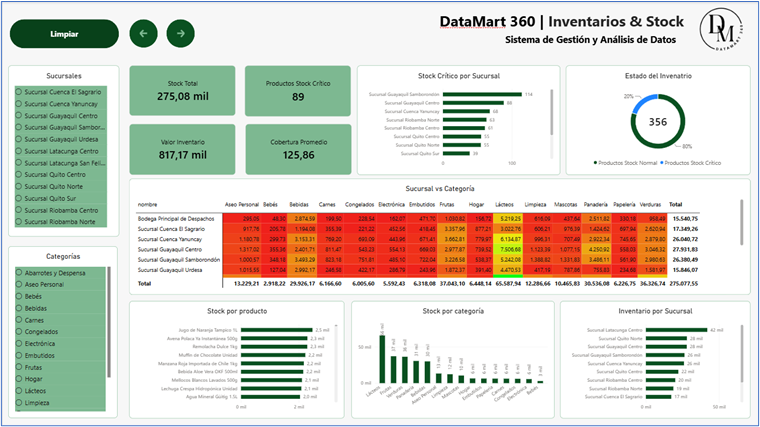

This screenshot's page, from the dashboard's own definition file:
{"tool":"powerbi","page":{"name":"Inventarios & Stock","canvas":[1920,1080],"ordinal":4},"visuals":[{"type":"textbox","box":[1100.3,23.5,634,56],"z":0,"group":"g1"},{"type":"cardVisual","fields":{"Data":["_Medidas.Productos Stock Crítico"]},"box":[615.3,162.9,270,130.3],"z":0},{"type":"cardVisual","fields":{"Data":["_Medidas.Stock Total"]},"box":[322.1,162.9,270,128.5],"z":1000},{"type":"listSlicer","title":"Sucursales","fields":{"Values":["sucursales.nombre"]},"box":[14.8,163,281.5,435.2],"z":2000},{"type":"cardVisual","fields":{"Data":["_Medidas.Cobertura Promedio"]},"box":[617.1,311.3,270,130.3],"z":2000},{"type":"cardVisual","fields":{"Data":["_Medidas.Valor Inventario"]},"box":[322.1,311.3,270,130.3],"z":3000},{"type":"listSlicer","title":"Categorías","fields":{"Values":["categorias.nombre"]},"box":[14.8,622.2,277.8,437],"z":4000},{"type":"clusteredBarChart","title":"Inventario por Sucursal","fields":{"Category":["sucursales.nombre"],"Y":["_Medidas.Stock Total"]},"box":[1417,761.9,483.2,298.6],"z":4000},{"type":"actionButton","box":[416.2,45.2,72.4,72.4],"z":5000,"group":"g3"},{"type":"clusteredColumnChart","title":"Stock por categoría","fields":{"Category":["categorias.nombre"],"Y":["_Medidas.Stock Total"]},"box":[886.7,761.9,515.8,298.6],"z":5000},{"type":"actionButton","box":[322.1,45.2,72.4,72.4],"z":6000,"group":"g3"},{"type":"barChart","title":"Stock Crítico por Sucursal","fields":{"Category":["sucursales.nombre"],"Y":["_Medidas.Stock Crítico"]},"box":[901.2,162.9,515.8,278.7],"z":6000},{"type":"pivotTable","title":"Sucursal vs Categoría","fields":{"Columns":["categorias.nombre"],"Rows":["sucursales.nombre"],"Values":["_Medidas.Stock Total"]},"box":[322.1,450.6,1578,295],"z":7000},{"type":"clusteredBarChart","title":"Stock por producto","fields":{"Category":["productos.nombre"],"Y":["_Medidas.Stock Total"]},"box":[322.1,761.9,546.5,298.6],"z":8000},{"type":"donutChart","title":"Estado del Invenatrio","fields":{"Y":["_Medidas.Productos Stock Normal","_Medidas.Productos Stock Crítico"]},"box":[1431.4,162.9,468.7,278.7],"z":9000},{"type":"actionButton","title":"Limpiar","box":[18.5,44.4,277.8,74.1],"z":10000},{"type":"group","id":"g1","title":"Grupo 2","box":[1100.3,23.5,634,98],"z":11000,"group":"g2"},{"type":"group","id":"g2","title":"Grupo 4","box":[1100.3,23.5,634,98],"z":11000},{"type":"group","id":"g3","title":"Grupo 3","box":[322.1,45.2,166.5,72.4],"z":13000},{"type":"image","box":[1757.4,3.7,138.9,137],"z":13001},{"type":"textbox","box":[1278.3,79.5,446,42],"z":16000,"group":"g1"}]}

Visuals, with their boxes in screenshot pixels (x1, y1, x2, y2), scaled from the page's 1920x1080 canvas onto the 760x427 screenshot:
textbox: l=436, t=9, r=686, b=31
cardVisual - _Medidas.Productos Stock Crítico: l=244, t=64, r=350, b=116
cardVisual - _Medidas.Stock Total: l=127, t=64, r=234, b=115
"Sucursales" listSlicer: l=6, t=64, r=117, b=237
cardVisual - _Medidas.Cobertura Promedio: l=244, t=123, r=351, b=175
cardVisual - _Medidas.Valor Inventario: l=127, t=123, r=234, b=175
"Categorías" listSlicer: l=6, t=246, r=116, b=419
"Inventario por Sucursal" clusteredBarChart: l=561, t=301, r=752, b=419
actionButton: l=165, t=18, r=193, b=46
"Stock por categoría" clusteredColumnChart: l=351, t=301, r=555, b=419
actionButton: l=127, t=18, r=156, b=46
"Stock Crítico por Sucursal" barChart: l=357, t=64, r=561, b=175
"Sucursal vs Categoría" pivotTable: l=127, t=178, r=752, b=295
"Stock por producto" clusteredBarChart: l=127, t=301, r=344, b=419
"Estado del Invenatrio" donutChart: l=567, t=64, r=752, b=175
"Limpiar" actionButton: l=7, t=18, r=117, b=47
"Grupo 2" group: l=436, t=9, r=686, b=48
"Grupo 4" group: l=436, t=9, r=686, b=48
"Grupo 3" group: l=127, t=18, r=193, b=46
image: l=696, t=1, r=751, b=56
textbox: l=506, t=31, r=683, b=48
